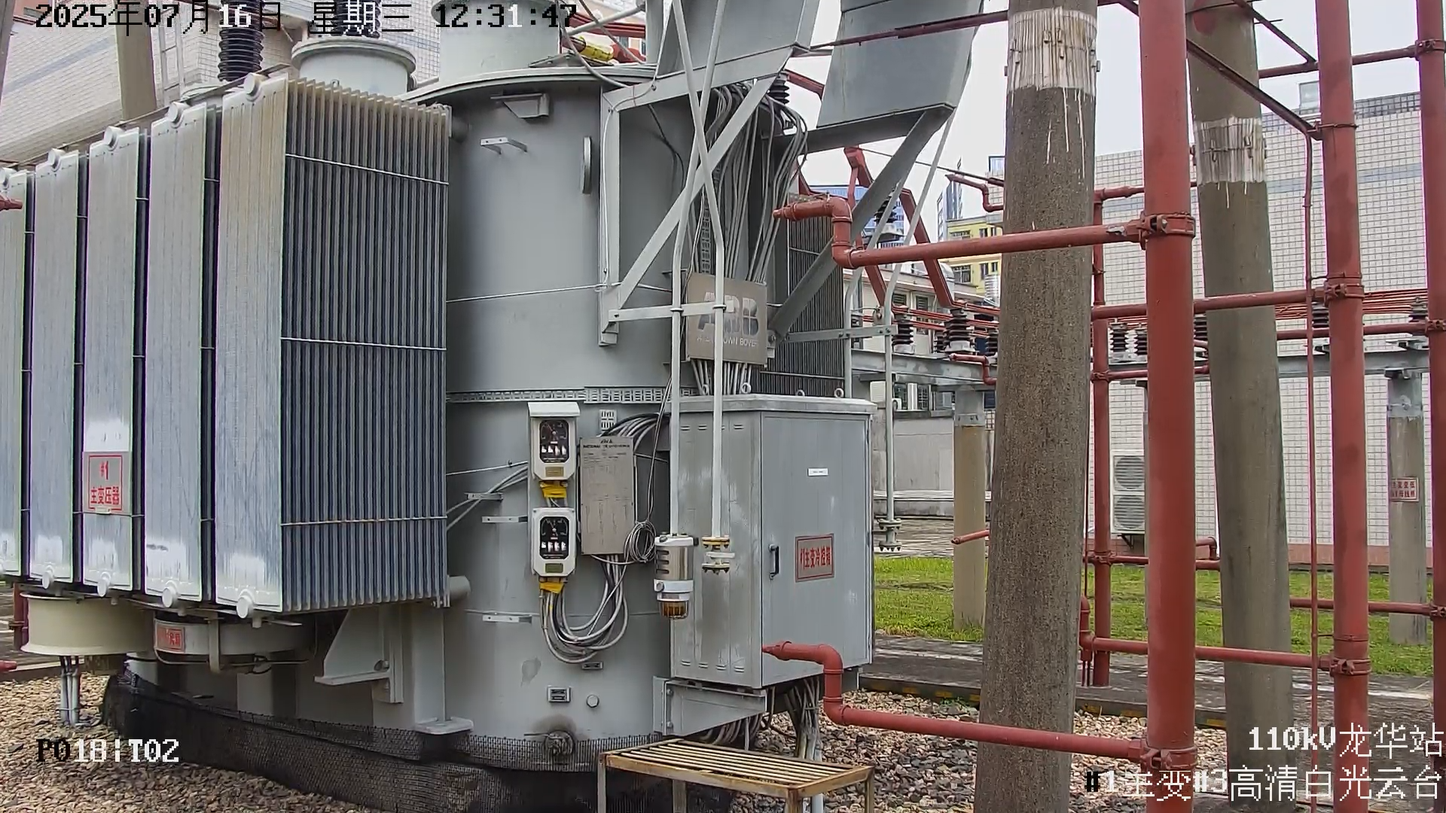MainTR: (1, 1, 984, 770)
